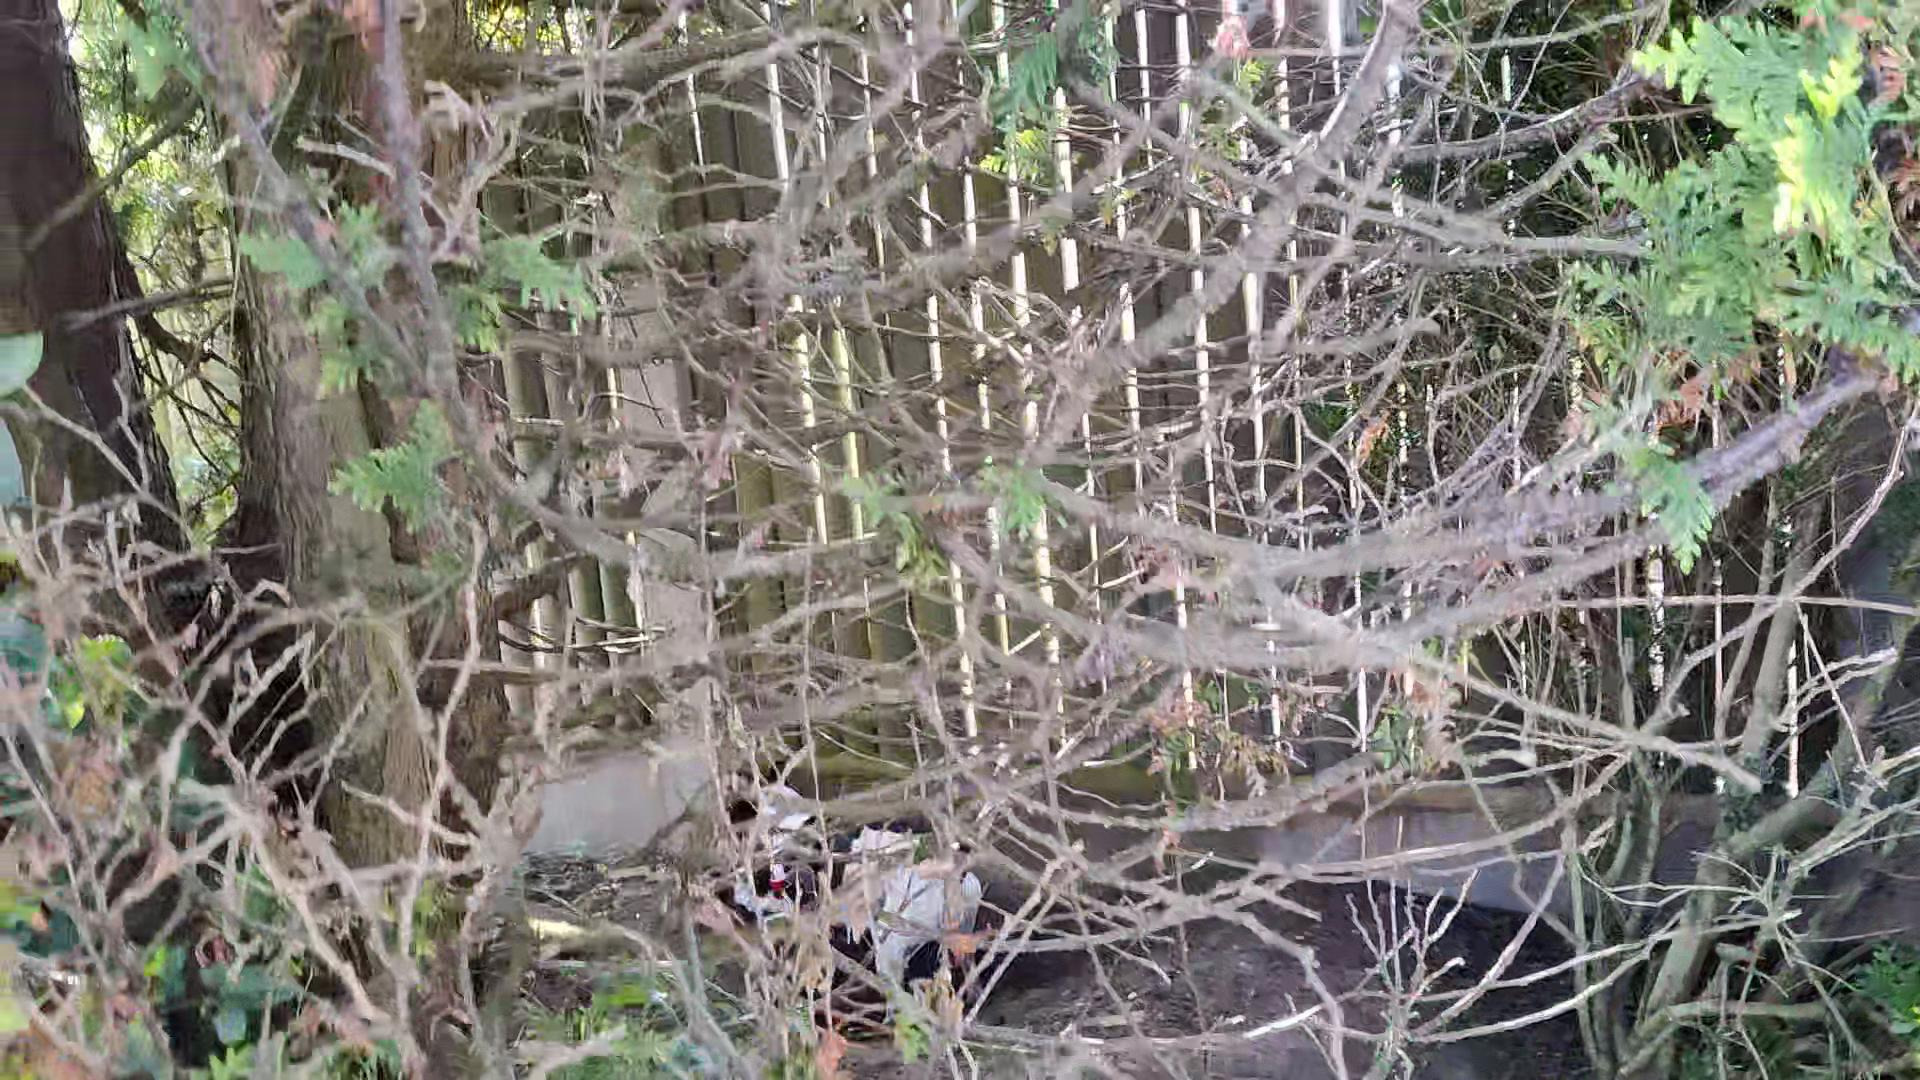Dog: (727, 746, 993, 1006)
